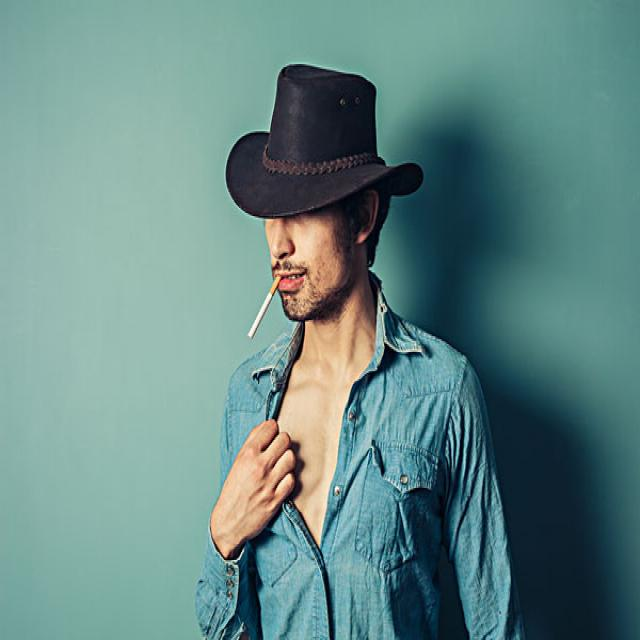smoking: (246, 271, 282, 340)
